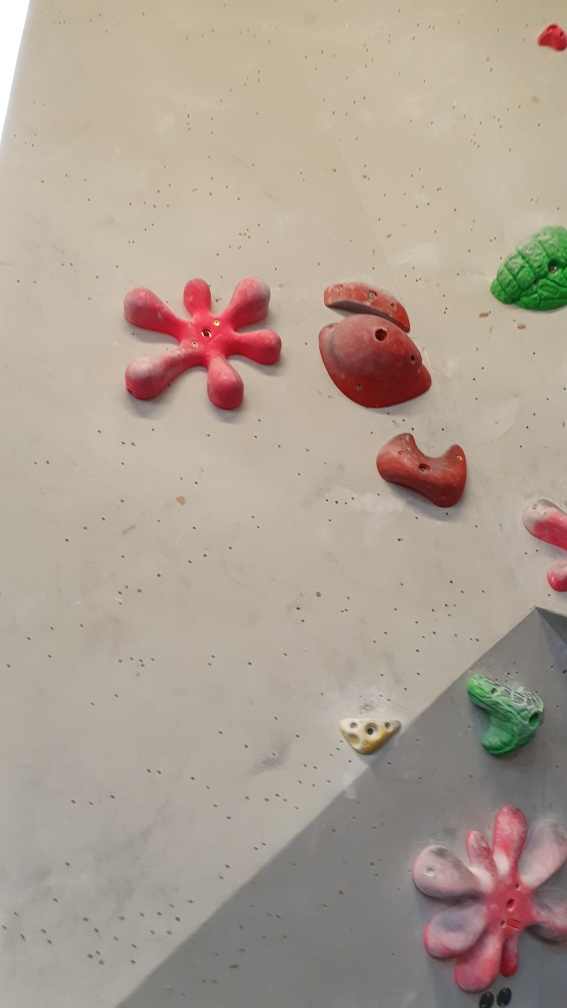Octopus Pinch: (411, 806, 567, 997), (115, 272, 283, 415)
